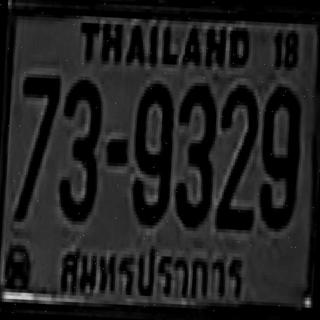N02: (214, 81, 259, 227)
N03: (56, 76, 102, 219), (172, 82, 216, 225)
N07: (14, 70, 60, 220)
N09: (257, 83, 301, 226), (130, 80, 174, 222)
P57: (50, 227, 253, 314)
